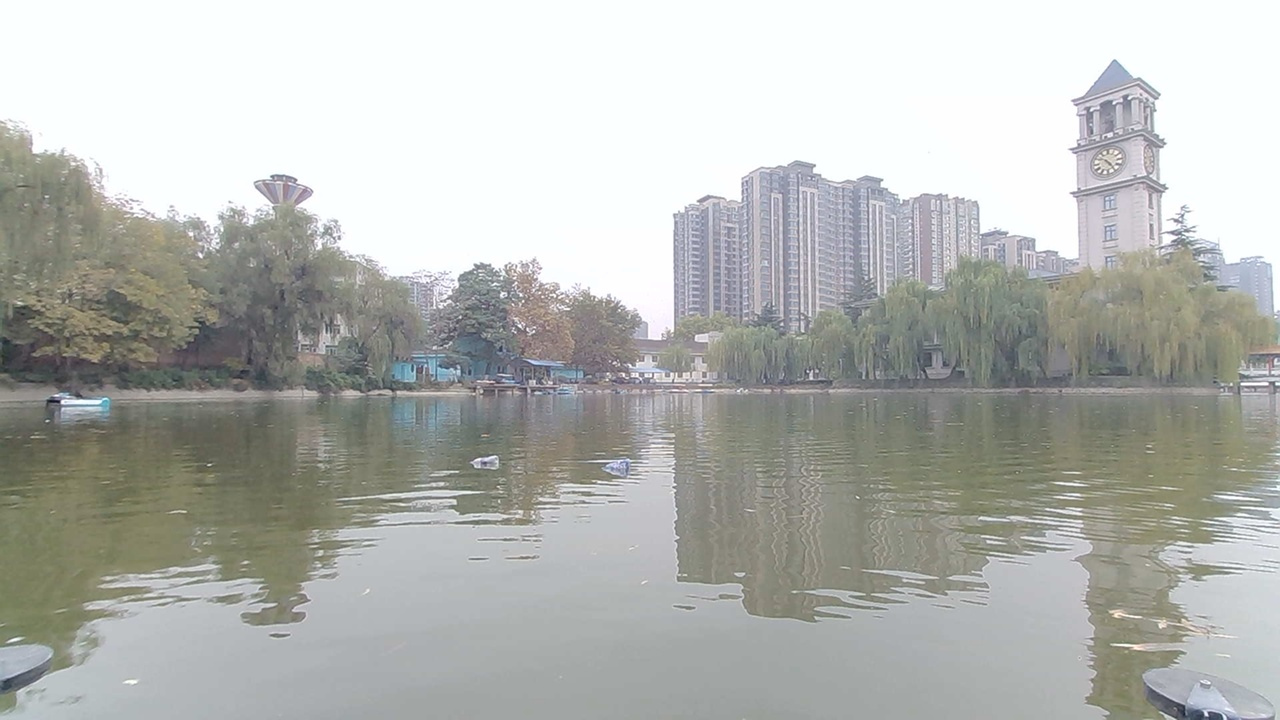bottle: (470, 446, 509, 472), (606, 458, 639, 475)
